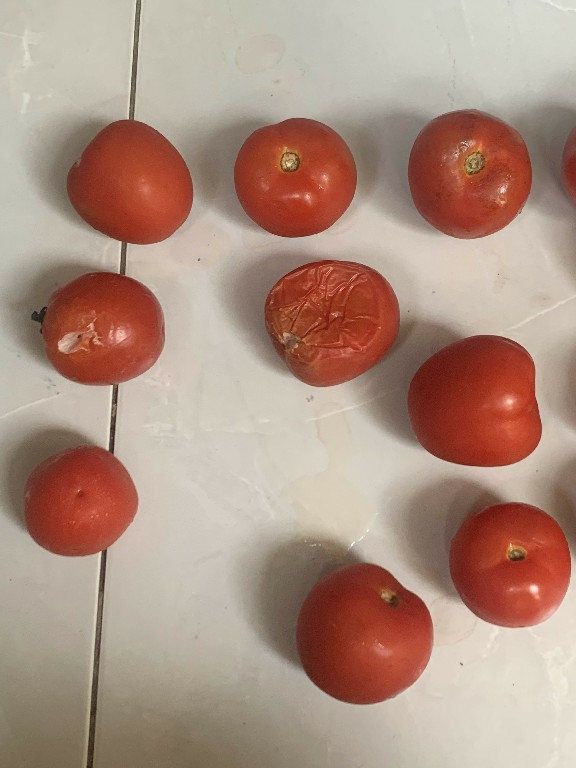NG: (262, 250, 401, 392), (29, 269, 173, 392)
OK: (296, 559, 436, 706), (407, 327, 545, 464), (397, 104, 534, 241), (61, 115, 200, 249), (442, 500, 574, 639), (228, 115, 361, 236), (17, 436, 145, 560)
